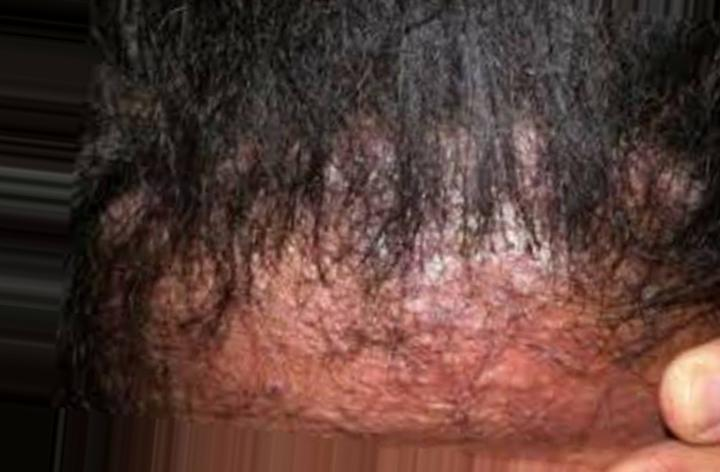Folliculitis: (352, 234, 570, 391)
